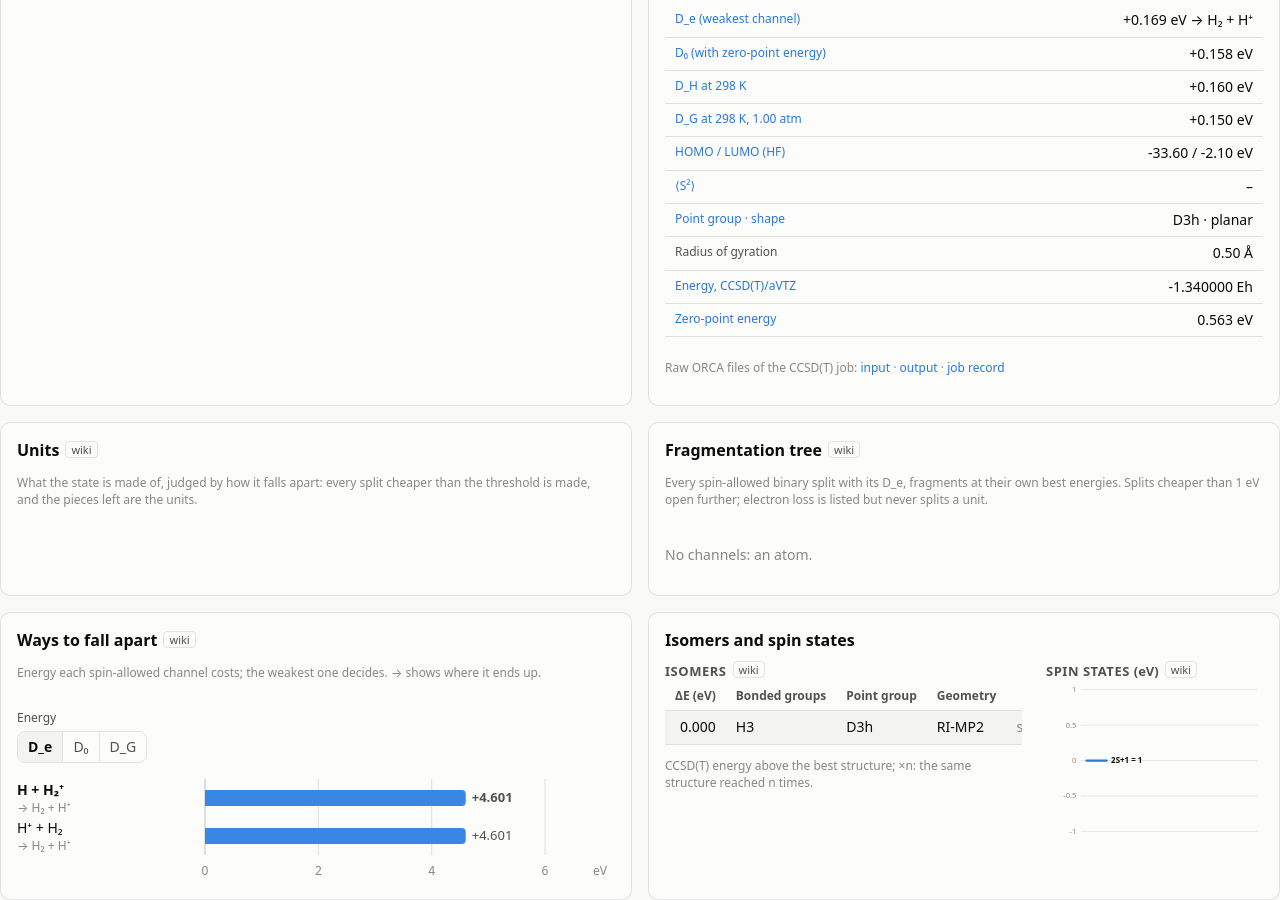
Test case: SpeciesView › the channels card shows T and p only for D_G
(page scrolled)
Click the button "D_G": (122,747) [98,732,146,762]
(page scrolled)
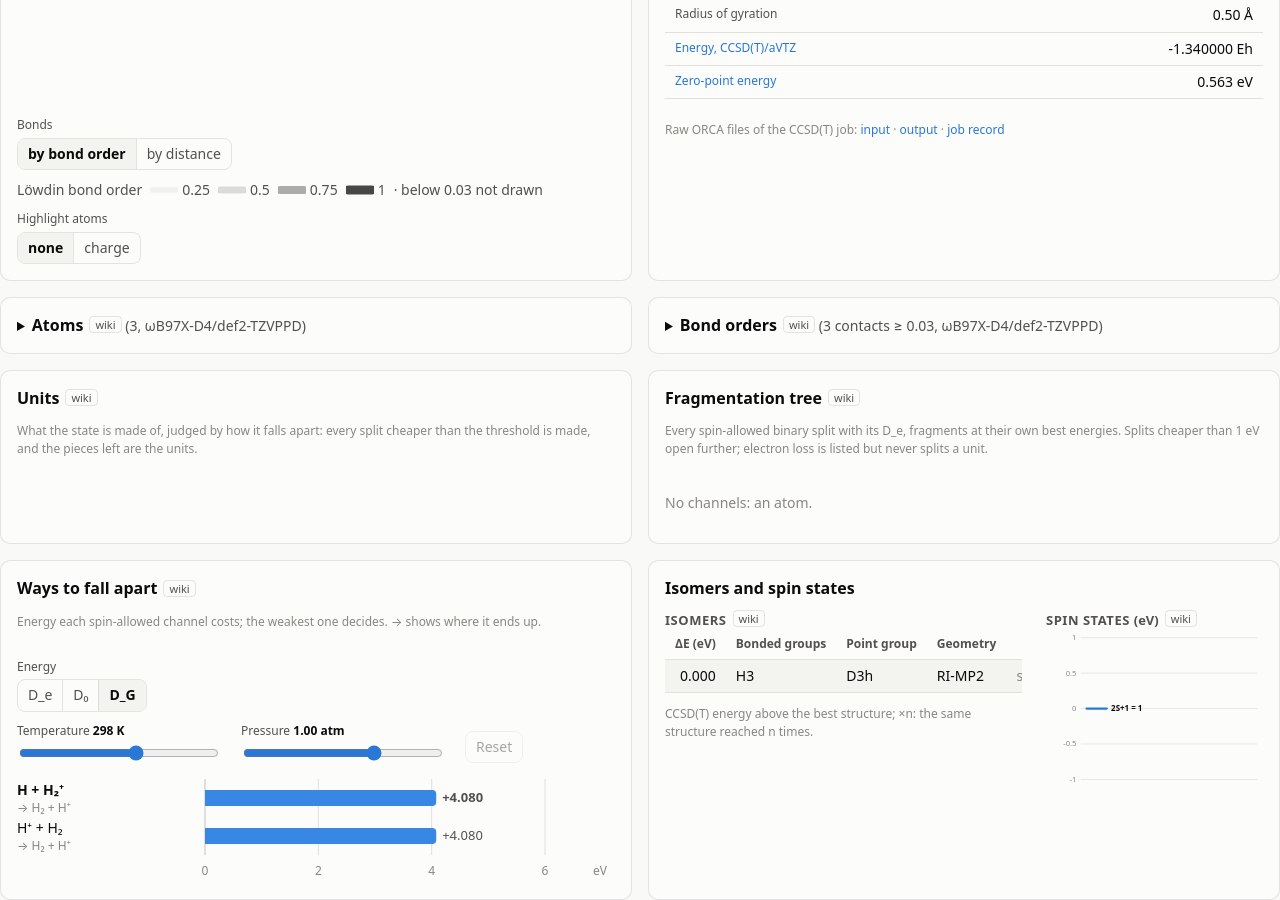
Expected: the slider with id "channels-temperature" is shown, [19,745,219,761]
Expected: the slider with id "channels-pressure" is shown, [243,745,443,761]
Expected: the button "Reset" is disabled, [465,731,523,763]
